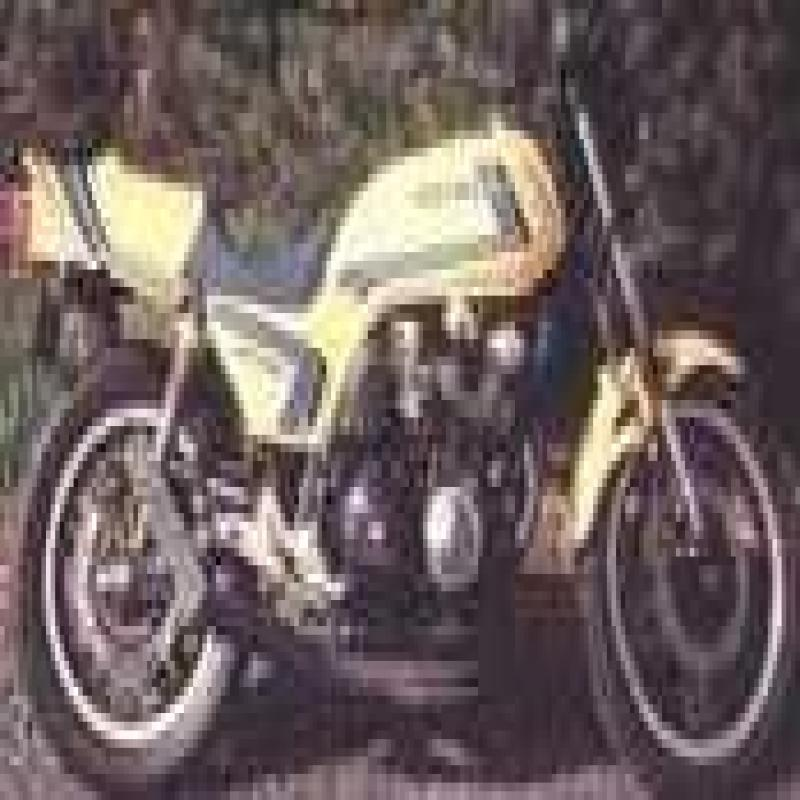bike: (15, 23, 799, 790)
